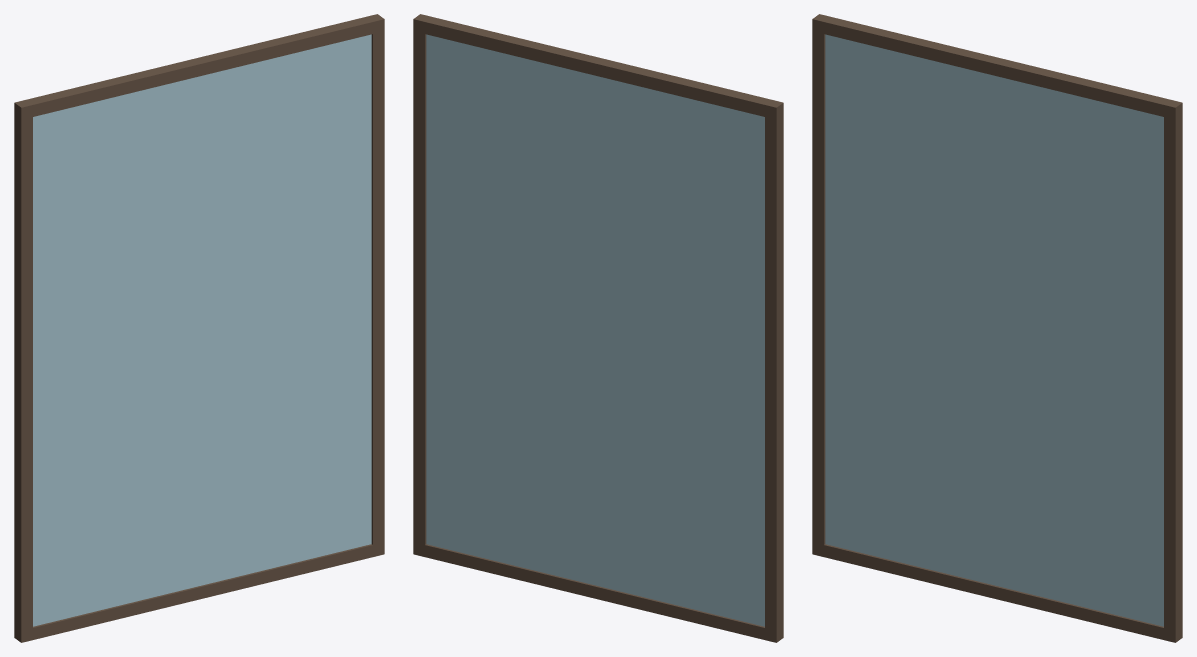
File: Window_5.fbx
3 views of the same model, side by side, from view 1: azimuth 30°, elevation 25°; view 2: azimuth 150°, elevation 25°; view 3: azimuth 330°, elevation 25° (orthographic).
Parts seen in each view (by area): view 1: Window_5; view 2: Window_5; view 3: Window_5.
Part boxes in pixels (<box>): Window_5: <box>14,14,384,642</box>; Window_5: <box>413,14,783,642</box>; Window_5: <box>812,14,1182,642</box>.
Bounding box in the file's own units: 165 × 5.55 × 233.
